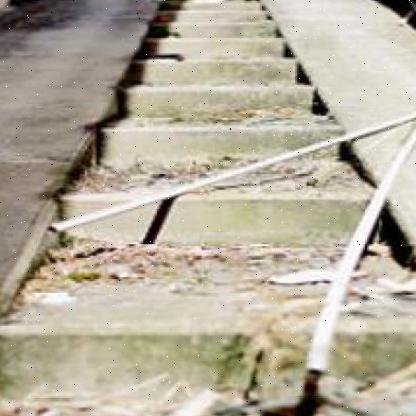stair_up: (33, 94, 411, 377)
